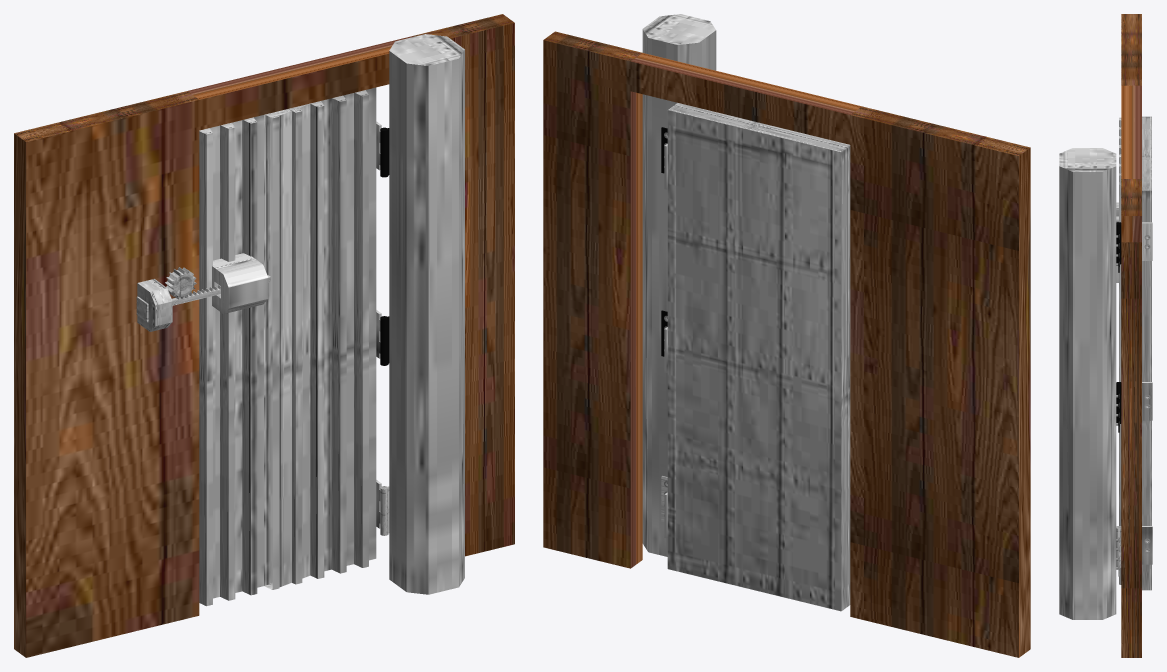
Rendered from doorr(2)done.glb.
3 views of the same model, side by side, from view 1: azimuth 30°, elevation 25°; view 2: azimuth 150°, elevation 25°; view 3: azimuth 270°, elevation 25° (orthographic). The views are drawn at different scales.
Parts seen in each view (by area): view 1: Cube.005, Cube.007, Cube.006, Cylinder.002, Cube.004, Cylinder.001; view 2: Cube.005, Cube.007, Cube.006, Cylinder.002; view 3: Cube.006, Cube.005, Cube.007, Cylinder.002.
Boxes of the visible parts, x1=… form: Cube.005: x1=14, y1=14, x2=514, y2=657; Cube.007: x1=199, y1=87, x2=381, y2=606; Cube.006: x1=389, y1=34, x2=464, y2=594; Cylinder.002: x1=380, y1=127, x2=389, y2=535; Cube.004: x1=137, y1=279, x2=172, y2=331; Cylinder.001: x1=165, y1=267, x2=196, y2=299; Cube.005: x1=543, y1=31, x2=1030, y2=657; Cube.007: x1=664, y1=103, x2=850, y2=611; Cube.006: x1=642, y1=14, x2=716, y2=556; Cylinder.002: x1=661, y1=127, x2=667, y2=521; Cube.006: x1=1059, y1=148, x2=1116, y2=619; Cube.005: x1=1121, y1=14, x2=1141, y2=657; Cube.007: x1=1116, y1=116, x2=1152, y2=590; Cylinder.002: x1=1116, y1=222, x2=1121, y2=576.
Bounding box in the file's own units: 46.52 × 48.66 × 9.09.
7 materials, 2 textured.
